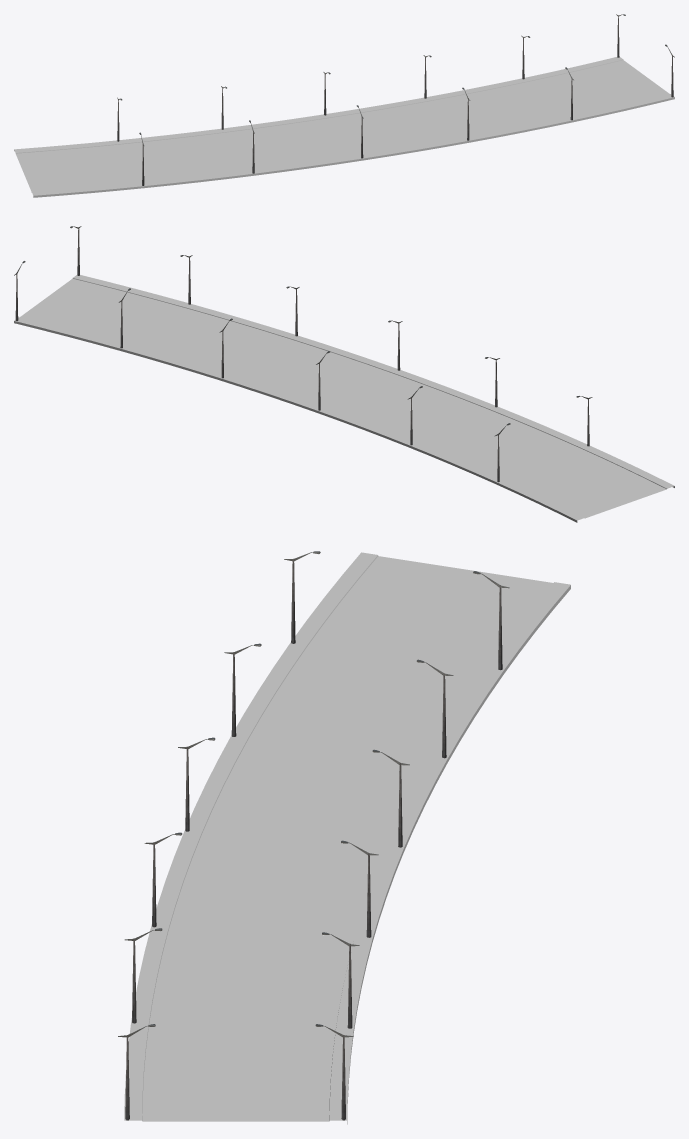
Rendered from Big_Road_20.FBX.
3 renders of one model, top to bottom at view 1: azimuth 30°, elevation 25°; view 2: azimuth 150°, elevation 25°; view 3: azimuth 270°, elevation 25°, orthographic. The views are drawn at different scales.
Parts seen in each view (by area): view 1: Big_Road_20, city_light003; view 2: Big_Road_20, city_light003; view 3: Big_Road_20, city_light003.
Boxes of the visible parts, x1,y1,x2,y2 form: Big_Road_20: (14, 57, 674, 197); city_light003: (117, 14, 674, 185); Big_Road_20: (14, 275, 674, 522); city_light003: (14, 226, 592, 482); Big_Road_20: (124, 552, 570, 1124); city_light003: (118, 551, 509, 1120).
Size of the model in its own units: 137 by 46.04 by 11.04.
